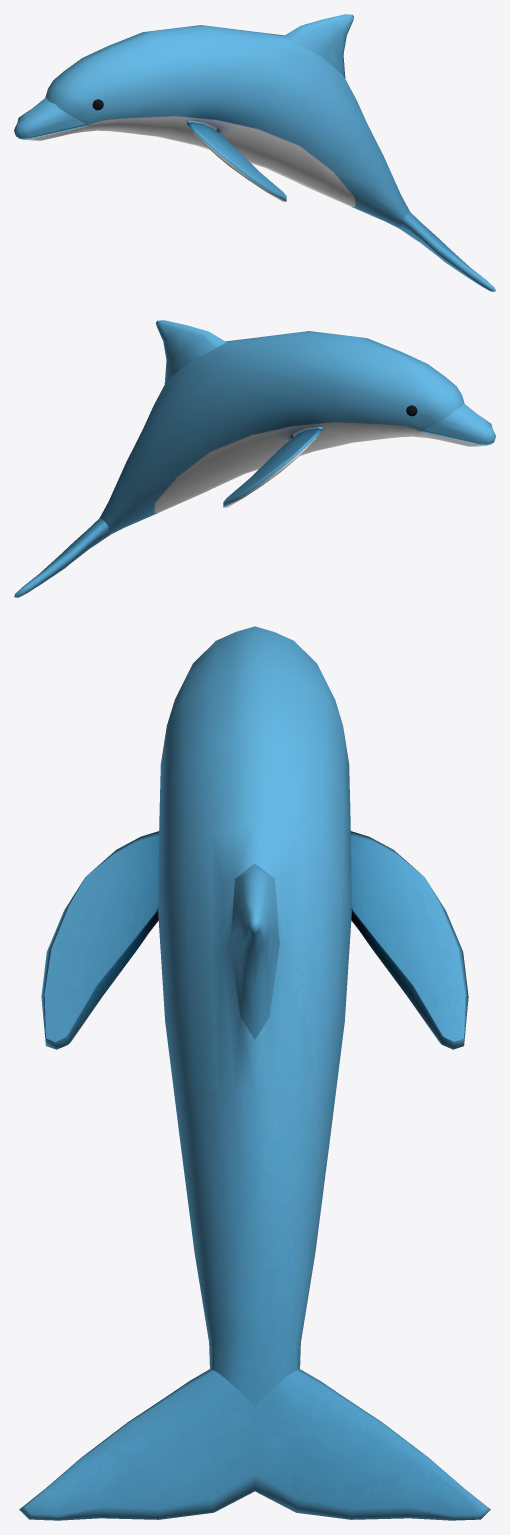
Rendered from dolphin.fbx.
3 views of the same model, one above another, from view 1: azimuth 30°, elevation 25°; view 2: azimuth 150°, elevation 25°; view 3: azimuth 270°, elevation 25° (orthographic). The views are drawn at different scales.
Visible parts, largest first — view 1: dolphin; view 2: dolphin; view 3: dolphin.
Boxes of the visible parts, x1=… form: dolphin: x1=14, y1=14, x2=495, y2=291; dolphin: x1=14, y1=320, x2=495, y2=597; dolphin: x1=19, y1=626, x2=490, y2=1520.
Size of the model in its own units: 4.93 by 3.2 by 2.37.
Materials: 1 (1 with a texture image).
